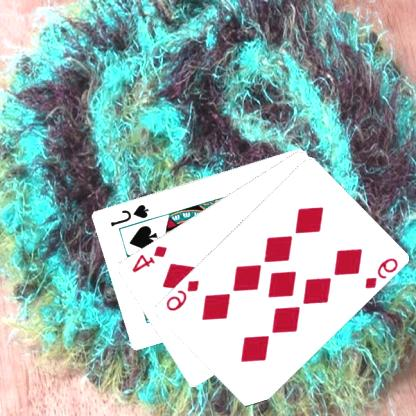4D: (130, 242, 170, 274)
9D: (164, 277, 202, 313), (364, 255, 402, 290)
JS: (109, 201, 152, 228)
